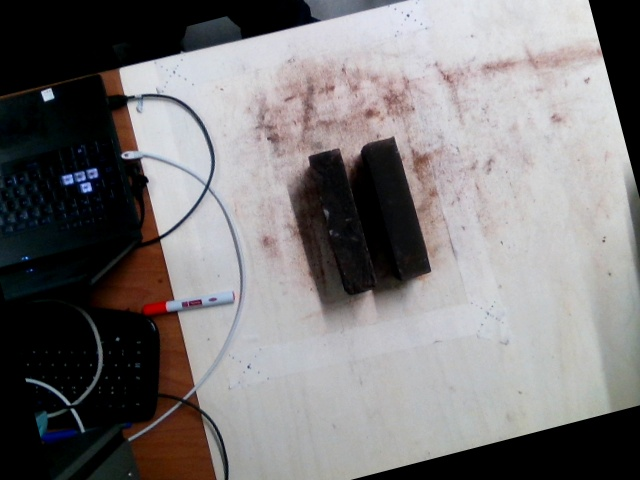brick-side: (308, 149, 377, 296), (363, 138, 432, 280)
